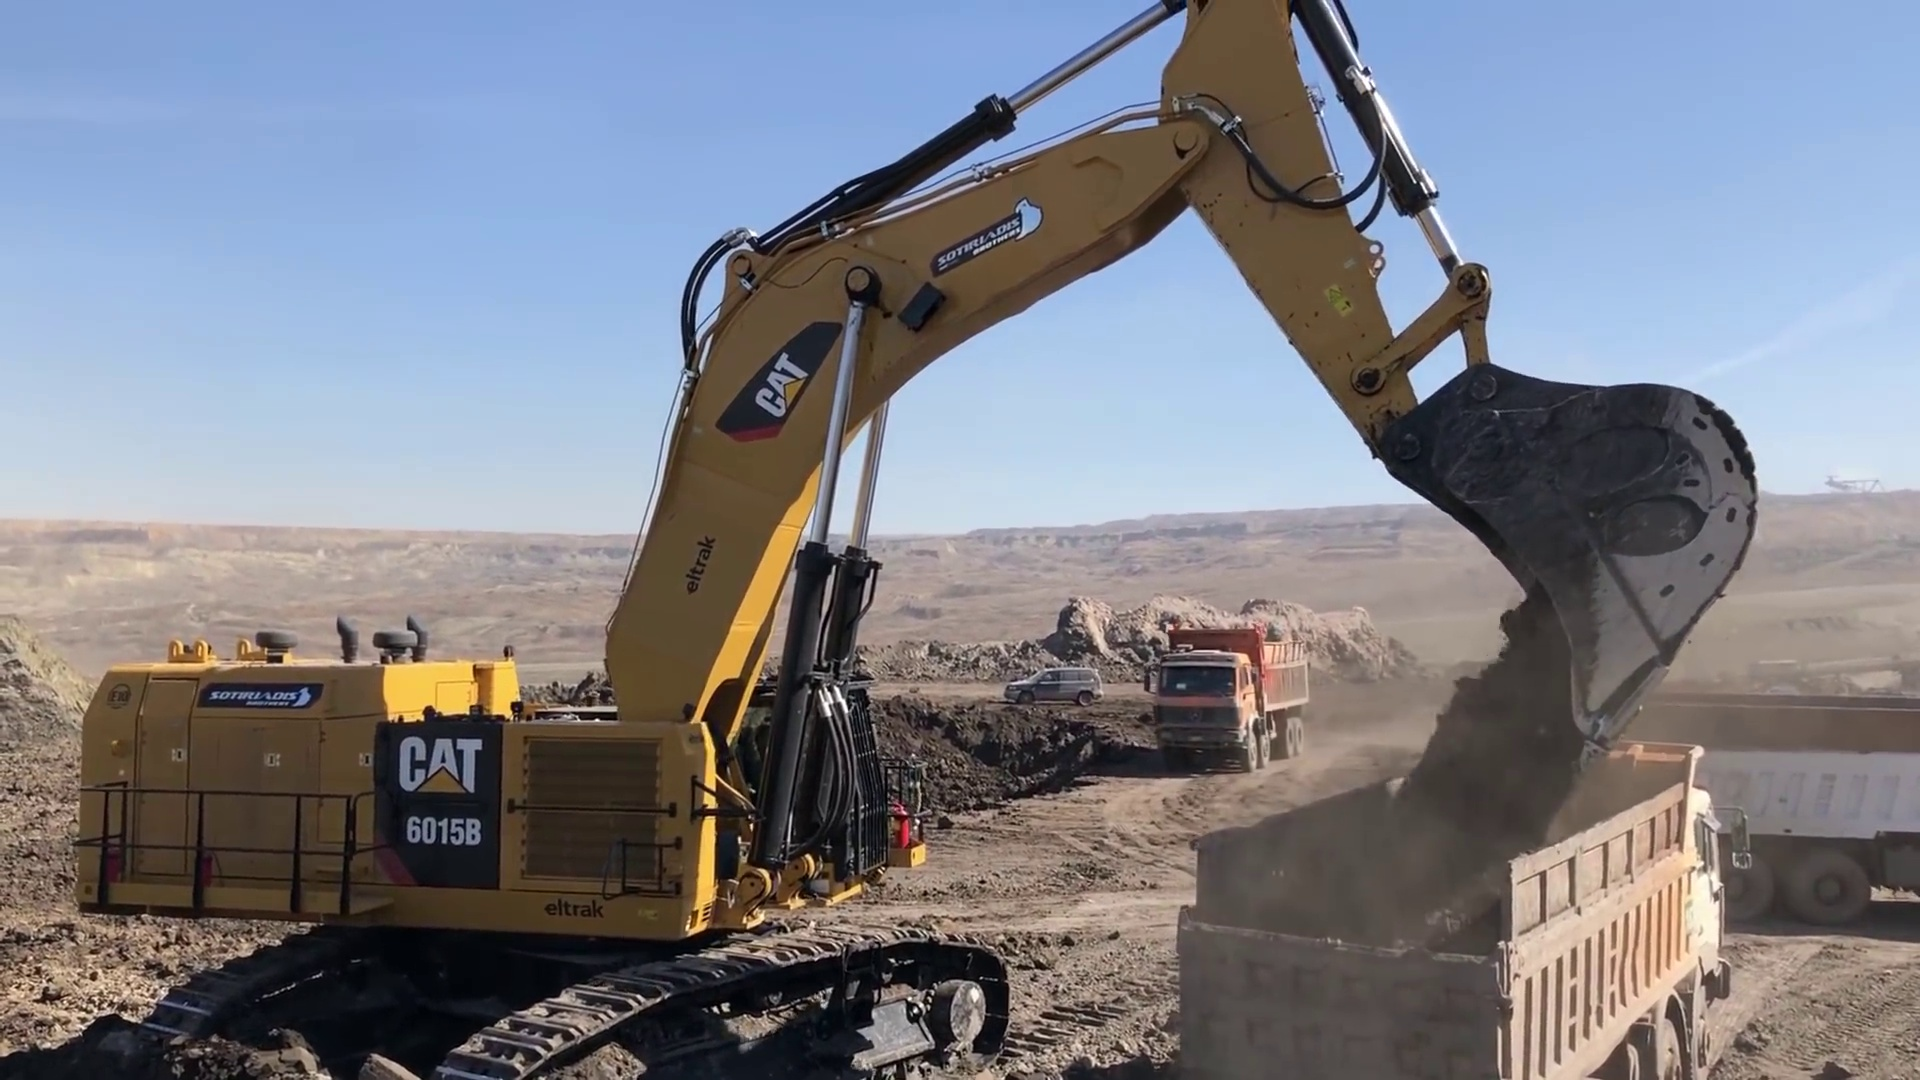car: (1004, 663, 1108, 708)
excavator: (32, 3, 1762, 1080)
truck: (1172, 732, 1741, 1080), (1501, 675, 1920, 922), (1153, 618, 1313, 773)
